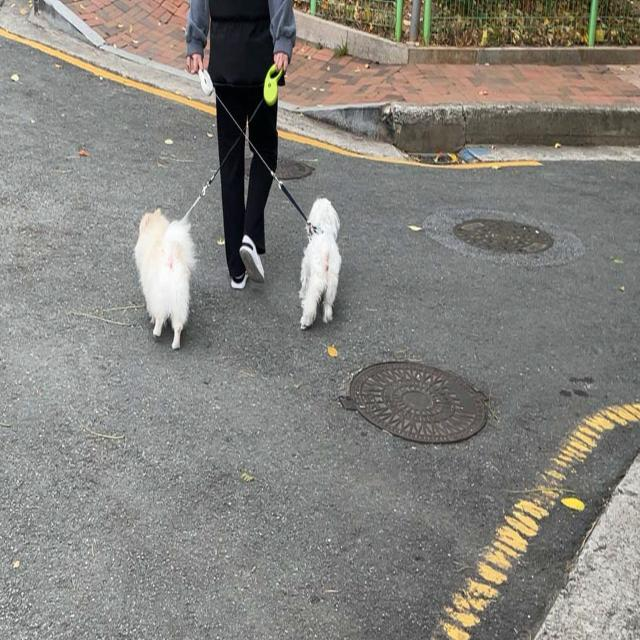Leashed_Dog: (187, 49, 342, 331), (134, 54, 278, 350)
